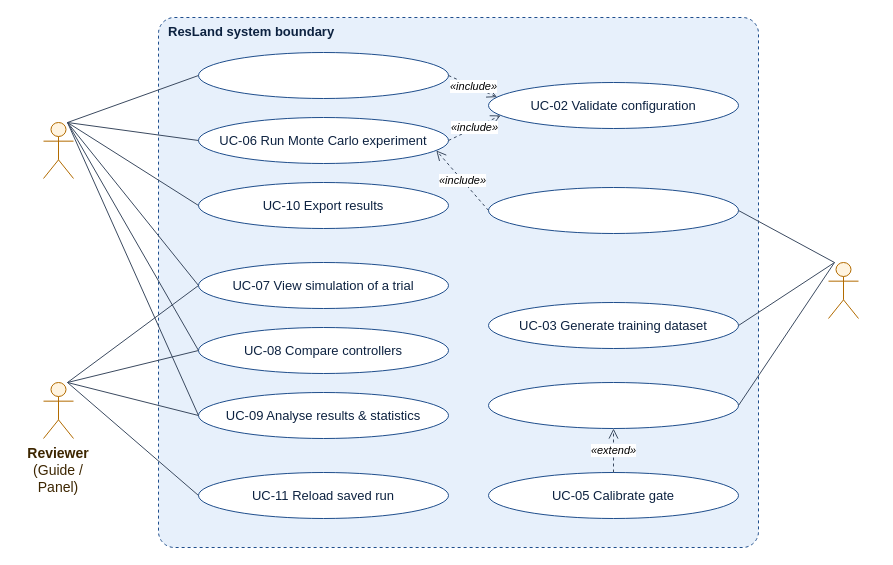
Some shapes in this 893 by 565 pixel diagram are drawn without their labels. Here are the shapes that lost their labels. From the top down, the box of each, then its label:
(198, 52, 448, 98): UC-01 Configure experiment
(42, 122, 74, 178): Experimenter
(488, 186, 738, 234): UC-12 Reproduce paper tables (CLI)
(828, 262, 858, 318): ML Developer
(488, 382, 738, 428): UC-04 Train residual model
